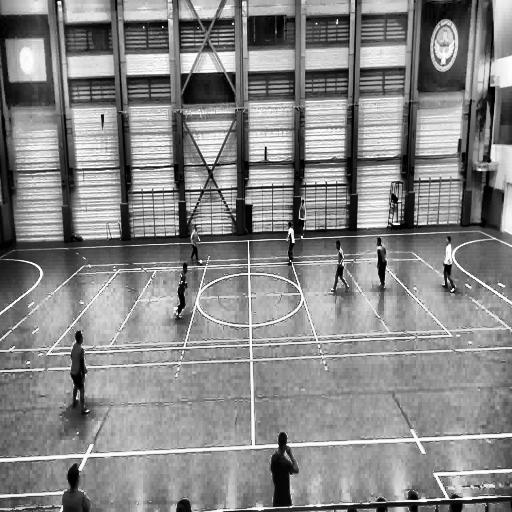ball: (198, 256, 204, 268)
player: (270, 432, 299, 508), (70, 330, 89, 414), (330, 241, 348, 293), (442, 235, 456, 292), (176, 262, 188, 320), (376, 238, 386, 292), (191, 224, 203, 264), (284, 218, 294, 265), (297, 199, 305, 240)
